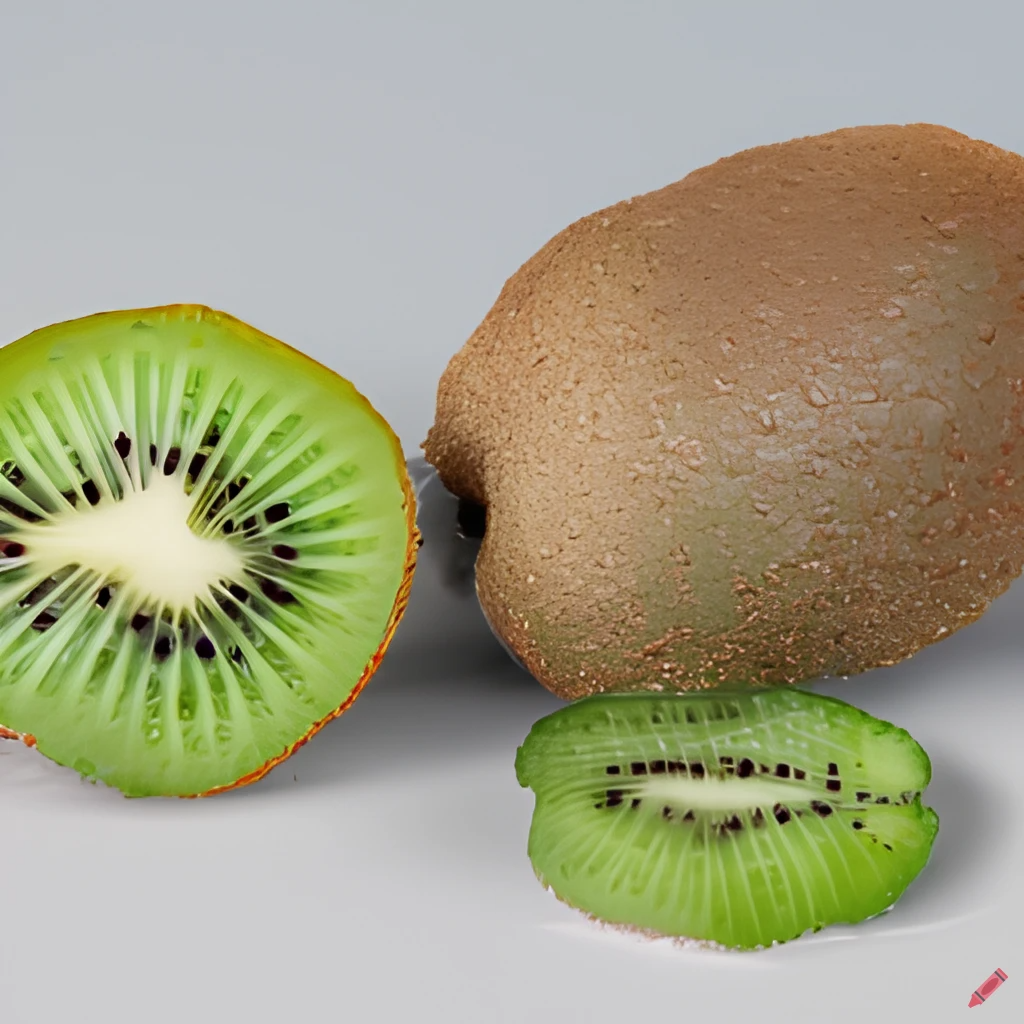Kiwi: (409, 77, 1024, 706), (0, 295, 402, 840)
